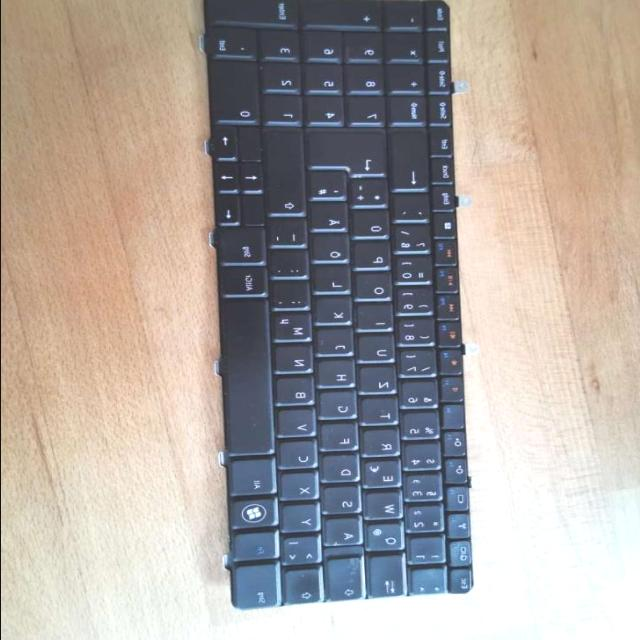0: (397, 259, 435, 286)
1: (410, 539, 448, 567)
2: (408, 507, 446, 536)
3: (407, 476, 445, 504)
4: (405, 445, 443, 472)
5: (405, 414, 443, 442)
6: (402, 383, 440, 411)
7: (401, 351, 439, 379)
8: (399, 321, 437, 349)
9: (398, 289, 436, 317)
a: (326, 520, 366, 548)
accent: (394, 197, 432, 224)
ae: (312, 205, 350, 233)
alt-left: (231, 460, 279, 497)
altgr-right: (222, 268, 270, 299)
b: (278, 380, 318, 408)
c: (280, 443, 320, 471)
caret: (413, 570, 448, 598)
comma: (273, 284, 313, 312)
d: (323, 457, 363, 485)
del: (391, 131, 431, 193)
e: (365, 463, 405, 491)
enter: (308, 133, 389, 179)
f: (322, 425, 360, 453)
g: (321, 394, 359, 422)
h: (320, 362, 358, 390)
hash: (309, 174, 349, 202)
i: (359, 306, 396, 333)
j: (318, 331, 356, 358)
k: (318, 300, 355, 327)
keyboard: (198, 0, 480, 617)
l: (315, 268, 353, 295)
less: (283, 538, 325, 567)
m: (275, 315, 315, 345)
minus: (270, 221, 310, 249)
n: (276, 348, 316, 376)
o: (357, 276, 395, 303)
oe: (313, 236, 351, 264)
p: (355, 244, 393, 272)
plus: (352, 182, 392, 210)
point: (271, 252, 311, 280)
q: (369, 525, 407, 553)
r: (365, 431, 403, 459)
s: (324, 488, 364, 516)
shift-left: (286, 571, 324, 607)
shift-lock: (327, 558, 367, 603)
shift-right: (266, 130, 308, 216)
space: (223, 301, 275, 457)
ss: (394, 228, 432, 256)
strg-left: (235, 567, 283, 613)
strg-right: (219, 230, 267, 266)
t: (364, 401, 402, 428)
tab: (371, 557, 409, 600)
u: (360, 337, 398, 365)
ue: (354, 213, 392, 241)
v: (279, 411, 319, 439)
w: (367, 494, 407, 522)
x: (282, 475, 322, 503)
y: (283, 507, 323, 535)
z: (361, 369, 399, 397)
